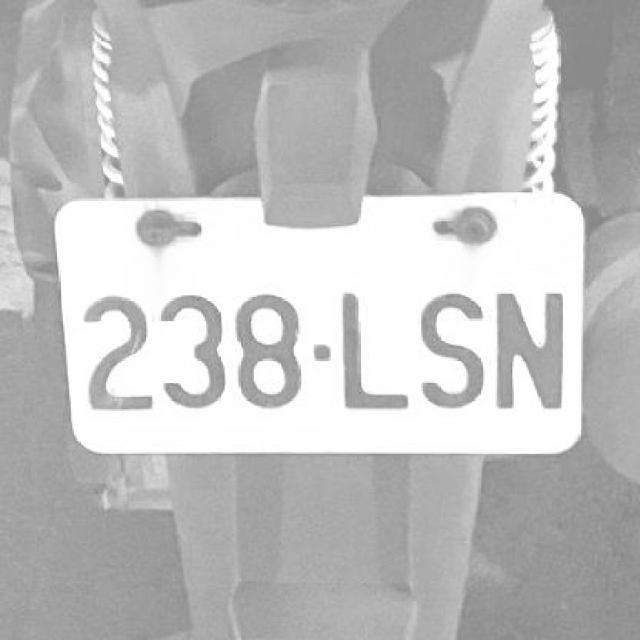-: (309, 342, 331, 363)
2: (80, 289, 157, 414)
3: (153, 291, 230, 412)
8: (231, 290, 303, 412)
L: (342, 288, 409, 417)
N: (491, 288, 566, 415)
S: (417, 291, 488, 409)
